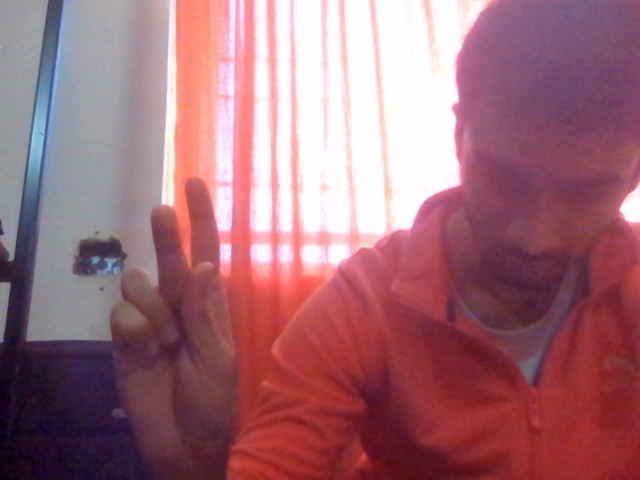K: (89, 157, 271, 480)
